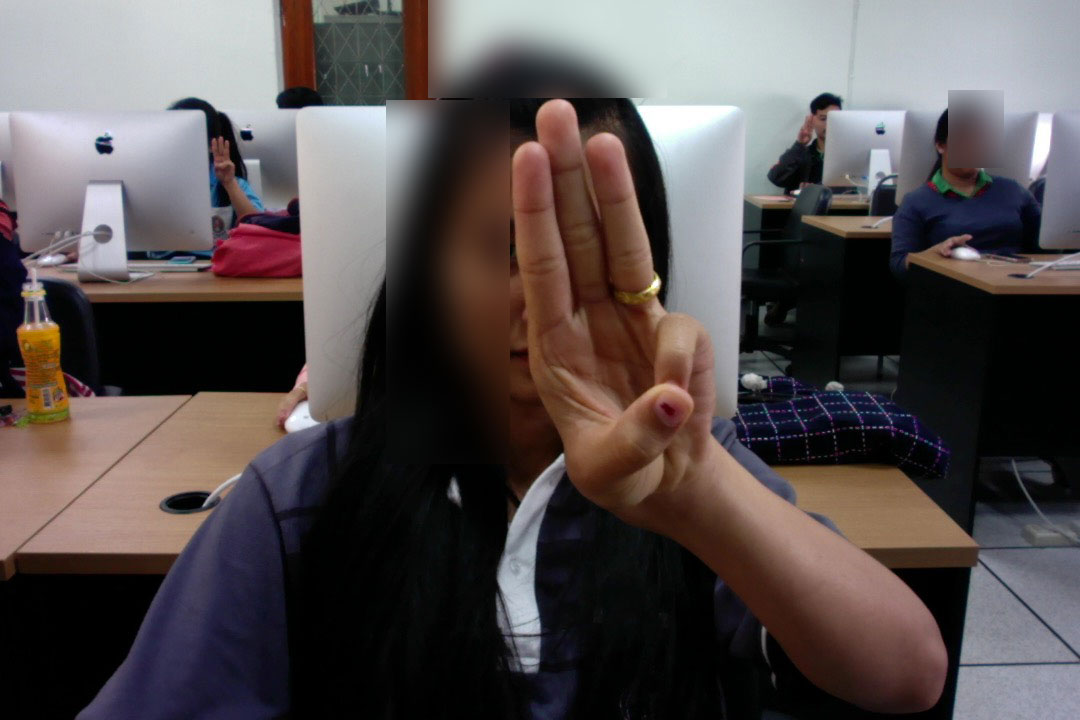wor: (503, 83, 730, 511)
